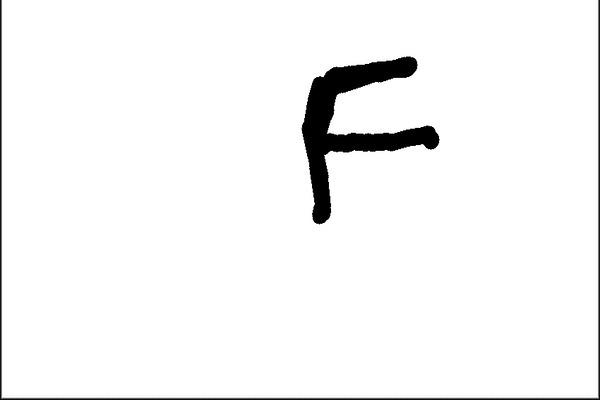F: (296, 50, 447, 228)
